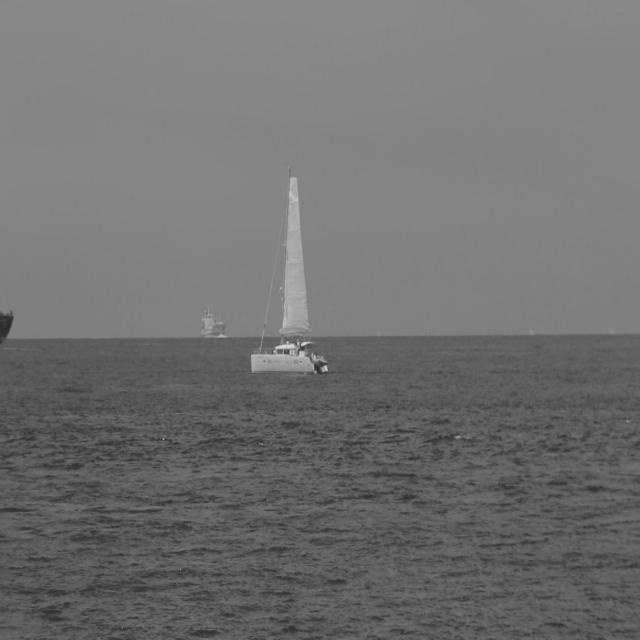boat: (252, 163, 332, 374)
ship: (0, 238, 18, 361), (200, 306, 227, 341)
